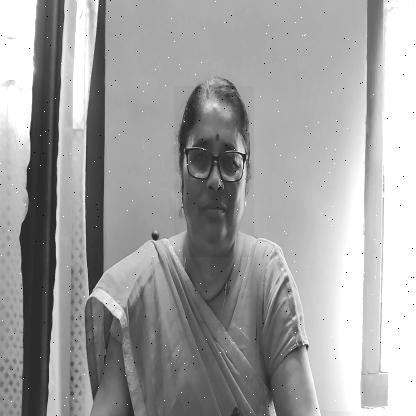Normal: (174, 86, 254, 257)
